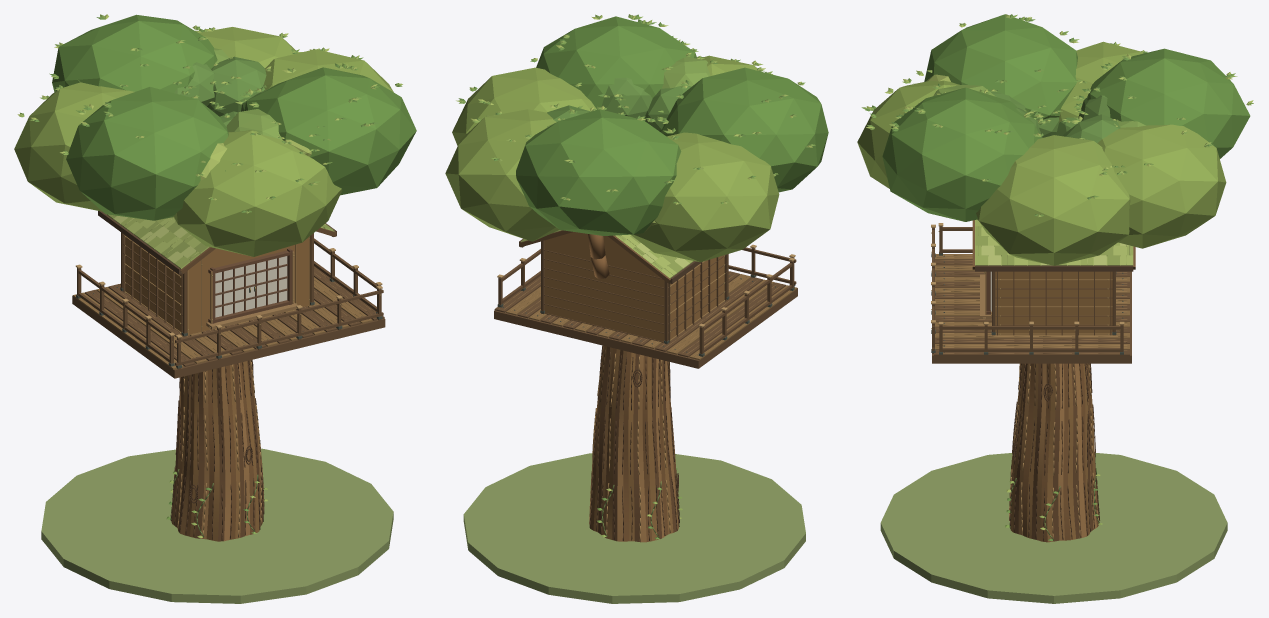
File: treehouse-refined-v1.glb
3 renders of one model, left to right at view 1: azimuth 30°, elevation 25°; view 2: azimuth 150°, elevation 25°; view 3: azimuth 270°, elevation 25°, orthographic. The views are drawn at different scales.
Parts seen in each view (by area): view 1: layout_treehouse_TH_6c9647_surface, layout_treehouse_TH_8d9e62_surface, layout_treehouse_TH_91ab53_surface, layout_treehouse_TH_705438_surface, layout_treehouse_TH_9b7445_surface, layout_treehouse_TH_735335_surface, layout_treehouse_TH_ac8150_surface, layout_treehouse_TH_6d934a_surface, layout_treehouse_TH_927247_surface, layout_treehouse_TH_86613b_surface, layout_treehouse_TH_a98554_surface, layout_treehouse_TH_59412c_surface (+13 smaller); view 2: layout_treehouse_TH_6c9647_surface, layout_treehouse_TH_8d9e62_surface, layout_treehouse_TH_91ab53_surface, layout_treehouse_TH_9b7445_surface, layout_treehouse_TH_705438_surface, layout_treehouse_TH_86613b_surface, layout_treehouse_TH_ac8150_surface, layout_treehouse_TH_735335_surface, layout_treehouse_TH_6d934a_surface, layout_treehouse_TH_59412c_surface, layout_treehouse_TH_927247_surface, layout_treehouse_TH_a98554_surface (+4 smaller); view 3: layout_treehouse_TH_8d9e62_surface, layout_treehouse_TH_6c9647_surface, layout_treehouse_TH_91ab53_surface, layout_treehouse_TH_9b7445_surface, layout_treehouse_TH_705438_surface, layout_treehouse_TH_a98554_surface, layout_treehouse_TH_86613b_surface, layout_treehouse_TH_927247_surface, layout_treehouse_TH_ac8150_surface, layout_treehouse_TH_735335_surface, layout_treehouse_TH_6d934a_surface, layout_treehouse_TH_59412c_surface (+7 smaller).
Boxes of the visible parts, <box> form: layout_treehouse_TH_6c9647_surface: <box>52,14,416,220</box>; layout_treehouse_TH_8d9e62_surface: <box>41,448,393,603</box>; layout_treehouse_TH_91ab53_surface: <box>14,27,393,256</box>; layout_treehouse_TH_705438_surface: <box>72,232,385,378</box>; layout_treehouse_TH_9b7445_surface: <box>125,235,310,541</box>; layout_treehouse_TH_735335_surface: <box>171,360,261,541</box>; layout_treehouse_TH_ac8150_surface: <box>172,360,263,541</box>; layout_treehouse_TH_6d934a_surface: <box>34,17,402,510</box>; layout_treehouse_TH_927247_surface: <box>73,277,372,369</box>; layout_treehouse_TH_86613b_surface: <box>175,362,262,540</box>; layout_treehouse_TH_a98554_surface: <box>81,235,375,538</box>; layout_treehouse_TH_59412c_surface: <box>170,359,264,540</box>; layout_treehouse_TH_6c9647_surface: <box>516,16,828,235</box>; layout_treehouse_TH_8d9e62_surface: <box>463,453,805,603</box>; layout_treehouse_TH_91ab53_surface: <box>445,55,779,262</box>; layout_treehouse_TH_9b7445_surface: <box>544,232,724,541</box>; layout_treehouse_TH_705438_surface: <box>494,240,797,368</box>; layout_treehouse_TH_86613b_surface: <box>588,234,678,541</box>; layout_treehouse_TH_ac8150_surface: <box>589,347,678,542</box>; layout_treehouse_TH_735335_surface: <box>596,346,677,542</box>; layout_treehouse_TH_6d934a_surface: <box>458,14,796,528</box>; layout_treehouse_TH_59412c_surface: <box>589,345,679,540</box>; layout_treehouse_TH_927247_surface: <box>506,274,797,360</box>; layout_treehouse_TH_a98554_surface: <box>499,261,789,541</box>; layout_treehouse_TH_8d9e62_surface: <box>880,453,1227,603</box>; layout_treehouse_TH_6c9647_surface: <box>882,14,1250,221</box>; layout_treehouse_TH_91ab53_surface: <box>857,41,1226,265</box>; layout_treehouse_TH_9b7445_surface: <box>995,271,1112,542</box>; layout_treehouse_TH_705438_surface: <box>932,226,1131,363</box>; layout_treehouse_TH_a98554_surface: <box>936,255,1127,540</box>; layout_treehouse_TH_86613b_surface: <box>1011,363,1098,542</box>; layout_treehouse_TH_927247_surface: <box>935,254,1129,349</box>; layout_treehouse_TH_ac8150_surface: <box>1016,363,1097,541</box>; layout_treehouse_TH_735335_surface: <box>1010,363,1099,541</box>; layout_treehouse_TH_6d934a_surface: <box>865,14,1231,541</box>; layout_treehouse_TH_59412c_surface: <box>1010,363,1099,541</box>.
Size of the model in its own units: 17.75 by 22.97 by 17.92.
